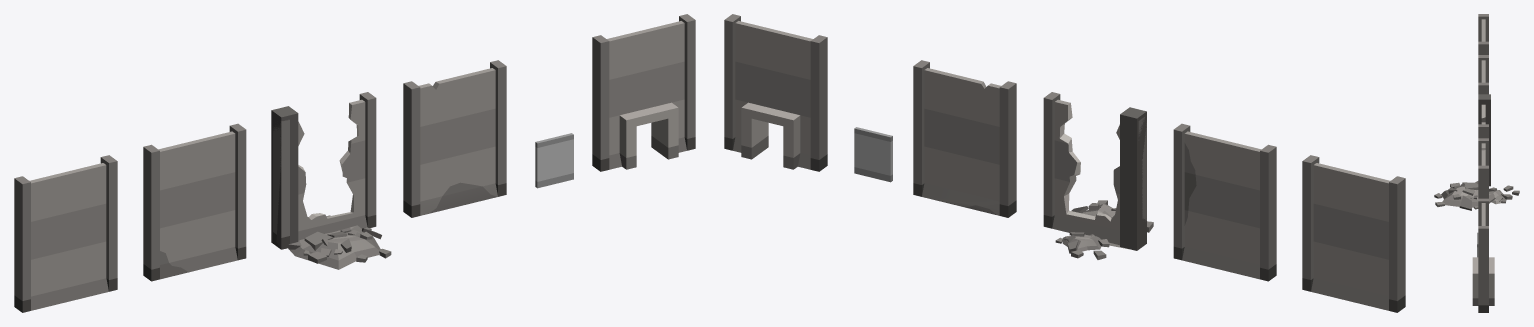
The model's file is City_Walls.gltf.
3 renders of one model, left to right at view 1: azimuth 30°, elevation 25°; view 2: azimuth 150°, elevation 25°; view 3: azimuth 270°, elevation 25°, orthographic. The views are drawn at different scales.
Visible parts, largest first — view 1: SA_Prop_Citywall_01, SA_Prop_Citywall_03, SA_Prop_Citywall_02, SA_Prop_Citywall_Gate_01, SA_Prop_Citywall_Damaged_01, SA_Prop_Citywall_Corner_01, SA_Props_Citywall_Gateblock; view 2: SA_Prop_Citywall_01, SA_Prop_Citywall_03, SA_Prop_Citywall_02, SA_Prop_Citywall_Gate_01, SA_Prop_Citywall_Damaged_01, SA_Prop_Citywall_Corner_01, SA_Props_Citywall_Gateblock; view 3: SA_Prop_Citywall_Gate_01, SA_Prop_Citywall_Damaged_01, SA_Prop_Citywall_02, SA_Prop_Citywall_Corner_01, SA_Prop_Citywall_01, SA_Prop_Citywall_03.
Boxes of the visible parts, <box> form: SA_Prop_Citywall_01: <box>14,155,117,312</box>; SA_Prop_Citywall_03: <box>143,123,246,281</box>; SA_Prop_Citywall_02: <box>403,60,506,217</box>; SA_Prop_Citywall_Gate_01: <box>592,14,695,171</box>; SA_Prop_Citywall_Damaged_01: <box>273,92,391,269</box>; SA_Prop_Citywall_Corner_01: <box>271,106,298,249</box>; SA_Props_Citywall_Gateblock: <box>535,133,573,188</box>; SA_Prop_Citywall_01: <box>1302,155,1405,312</box>; SA_Prop_Citywall_03: <box>1173,123,1276,281</box>; SA_Prop_Citywall_02: <box>913,60,1016,217</box>; SA_Prop_Citywall_Gate_01: <box>724,14,827,171</box>; SA_Prop_Citywall_Damaged_01: <box>1043,92,1153,259</box>; SA_Prop_Citywall_Corner_01: <box>1120,107,1146,250</box>; SA_Props_Citywall_Gateblock: <box>854,127,892,182</box>; SA_Prop_Citywall_Gate_01: <box>1472,198,1494,312</box>; SA_Prop_Citywall_Damaged_01: <box>1434,104,1519,210</box>; SA_Prop_Citywall_02: <box>1478,138,1488,198</box>; SA_Prop_Citywall_Corner_01: <box>1478,94,1490,186</box>; SA_Prop_Citywall_01: <box>1478,14,1488,54</box>; SA_Prop_Citywall_03: <box>1478,55,1488,94</box>.
Size of the model in its own units: 1.06 by 0.2093 by 0.178.
1 material, 1 textured.
